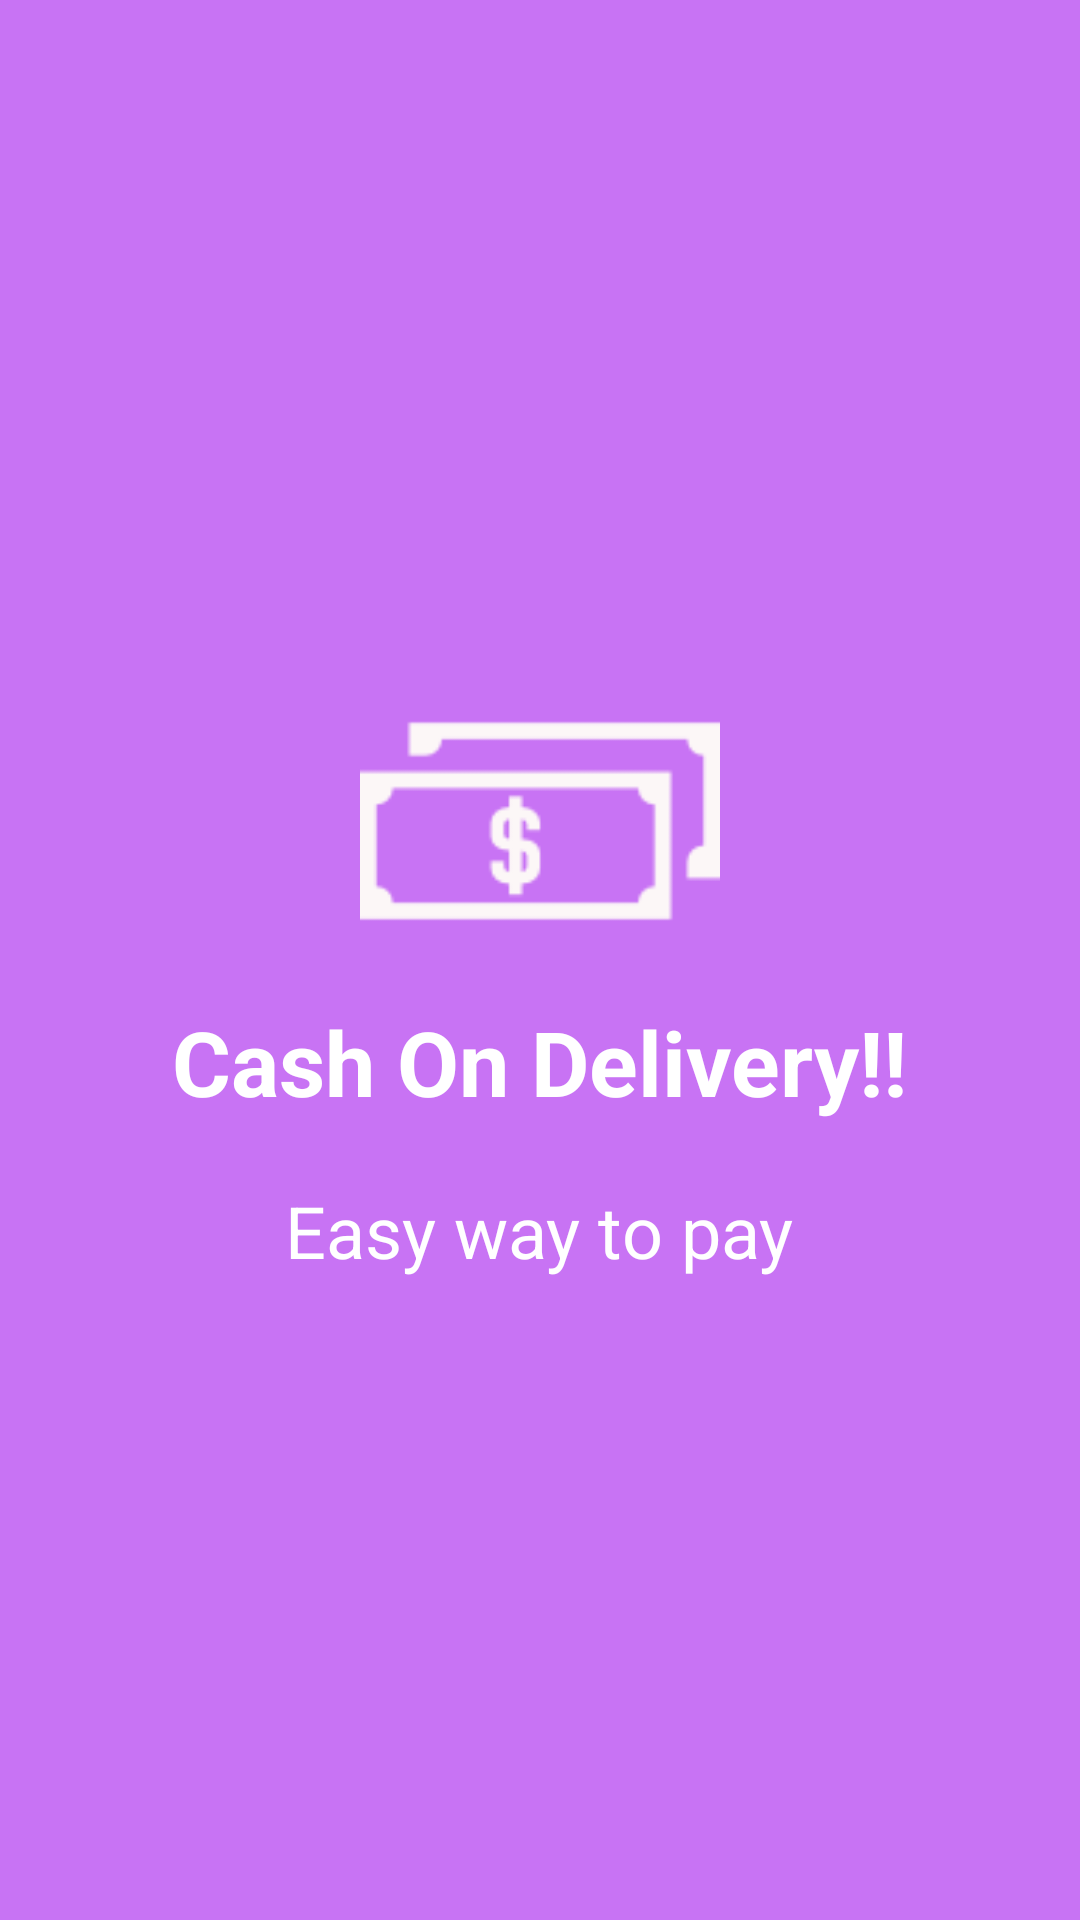

Named icons in this screenshot (1080 x 1920) and their bounding boxes, detection(x1, y1, x2, y2):
dollar bill: detection(360, 722, 720, 920)
